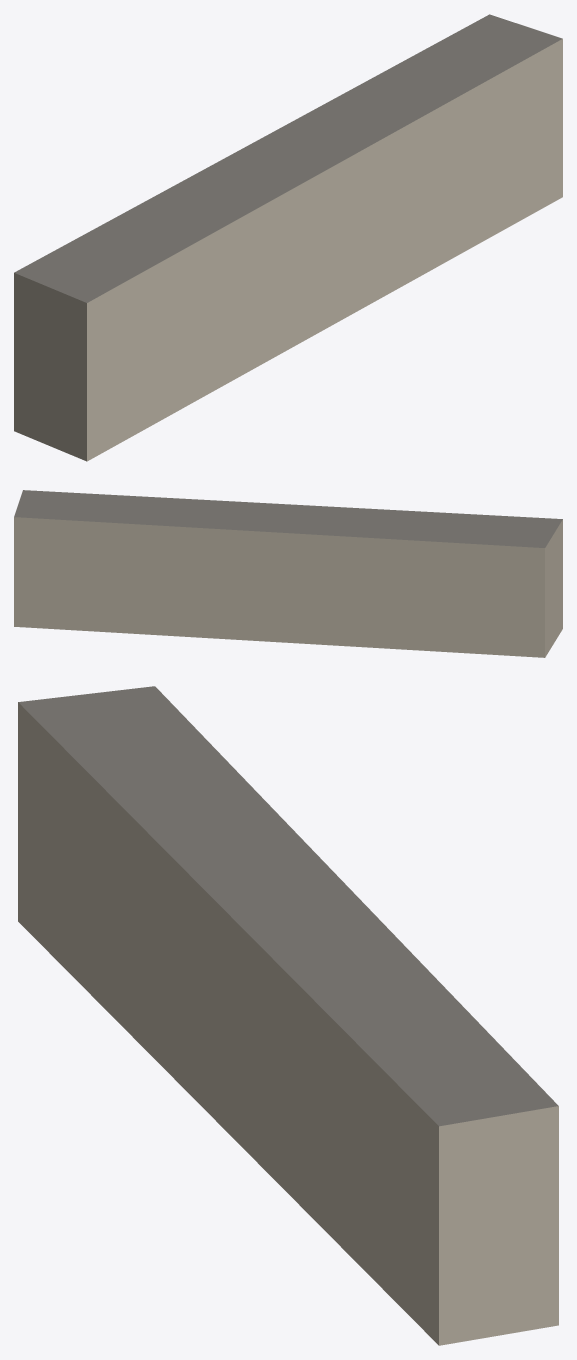
3 views of the same model, one above another, from view 1: azimuth 30°, elevation 25°; view 2: azimuth 150°, elevation 25°; view 3: azimuth 270°, elevation 25° (orthographic). The views are drawn at different scales.
Visible parts, largest first — view 1: HP-w1058562704; view 2: HP-w1058562704; view 3: HP-w1058562704.
Part boxes in pixels (x1,y1,x2,y2): HP-w1058562704: [14, 14, 562, 461]; HP-w1058562704: [14, 490, 562, 657]; HP-w1058562704: [18, 686, 558, 1345].
Size of the model in its own units: 77.44 by 18 by 40.19.
